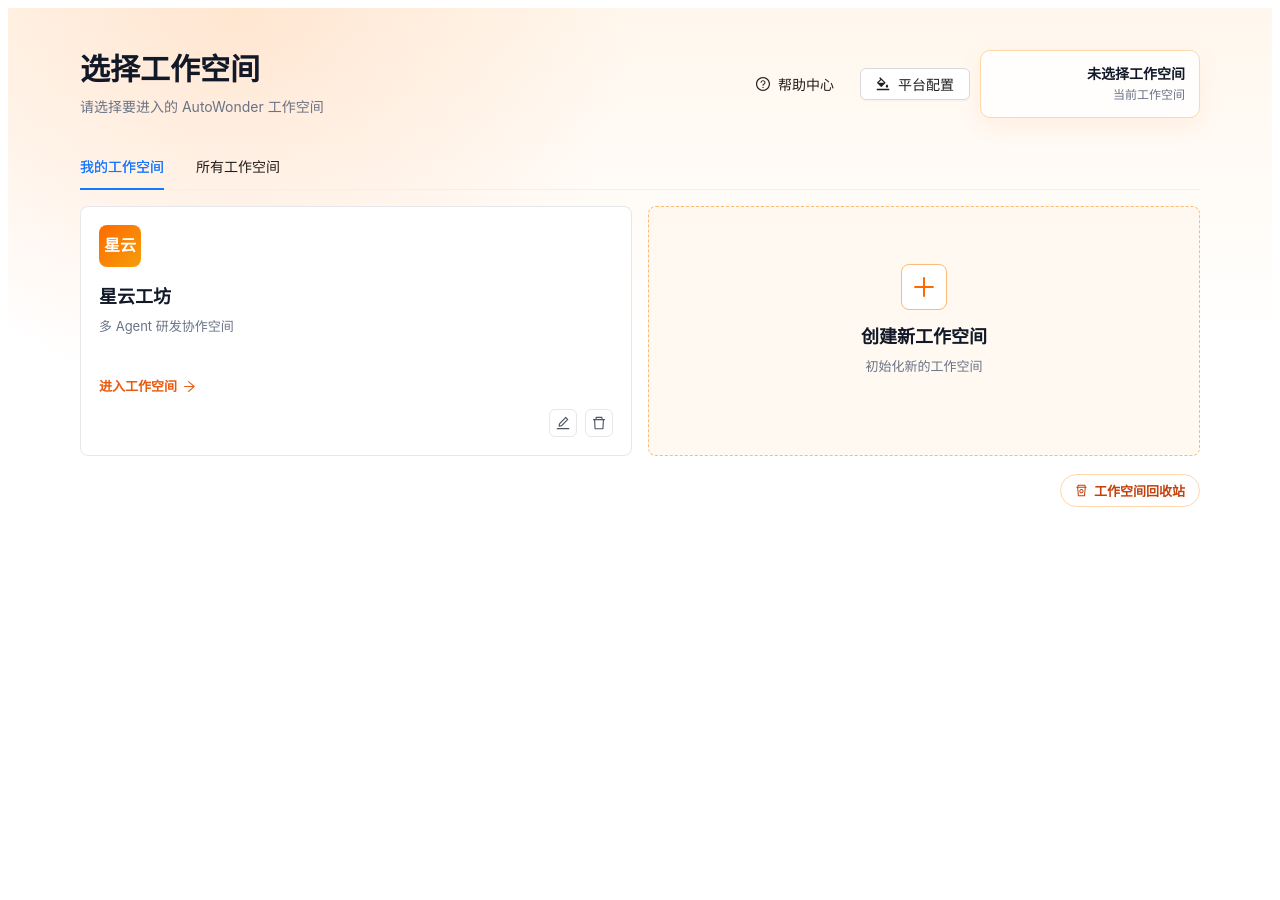
it: WorkspaceSelectPage › keeps the manage controls out of the enter control so managing cannot enter the workspace
Check: the element with test id "workspace-manage-area-1" does not have style "position: absolute", box top-left (549, 409), bottom-right (613, 437)
Check: the element with test id "workspace-manage-area-1" has style "display: flex; justifyContent: flex-end", box top-left (549, 409), bottom-right (613, 437)
Click the button with test id "edit-workspace-1" at (563,423), box top-left (549, 409), bottom-right (577, 437)
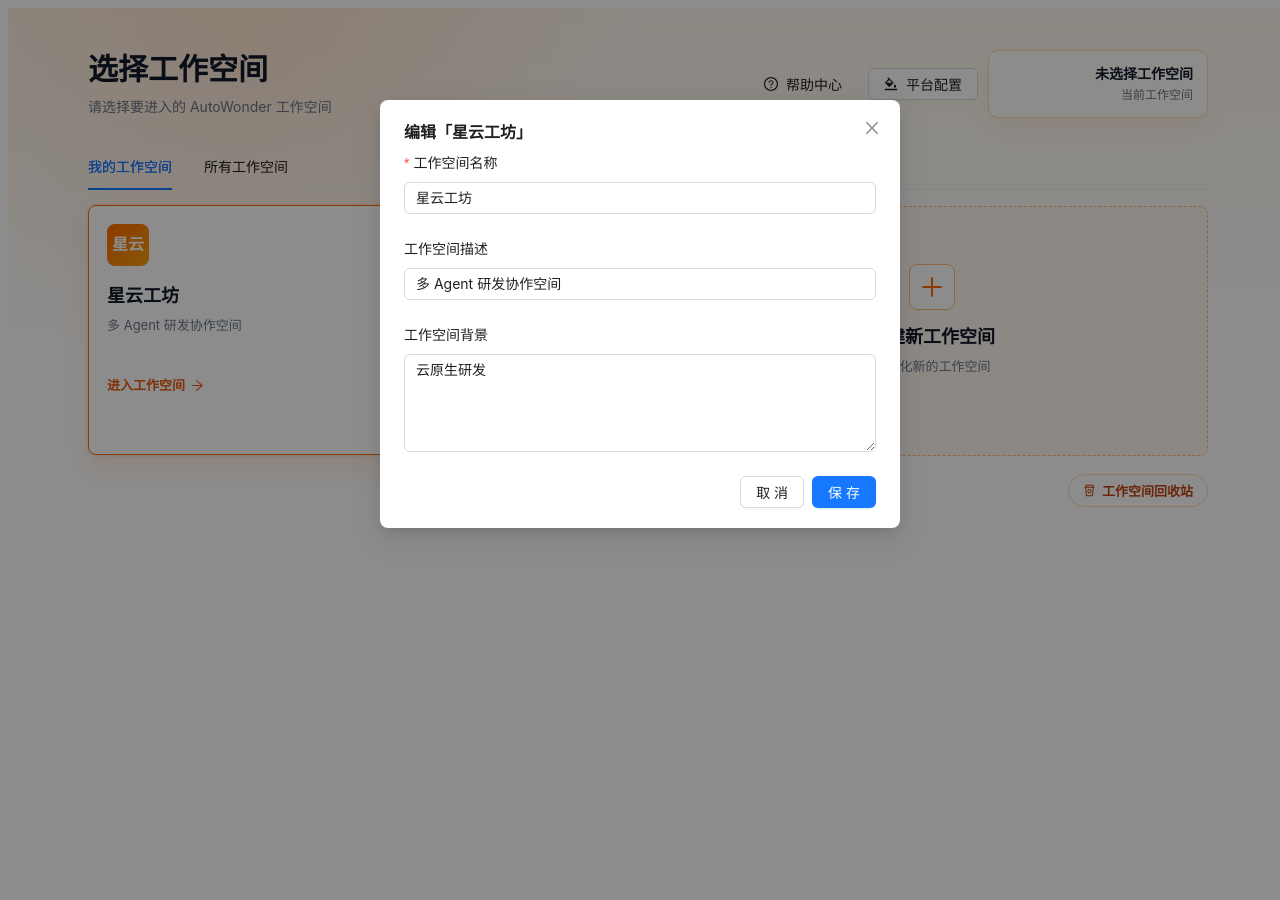
Check: the text "编辑「星云工坊」" is shown, box top-left (404, 122), bottom-right (532, 142)
